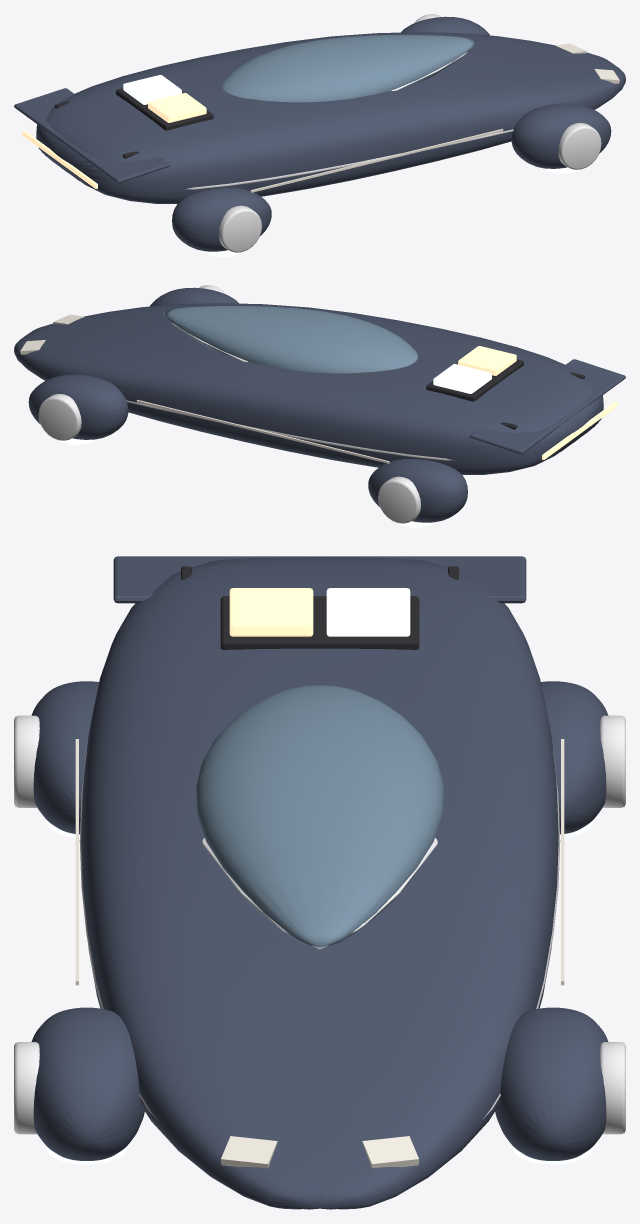
The model's file is SM_Spinner.fbx.
3 views of the same model, one above another, from view 1: azimuth 30°, elevation 25°; view 2: azimuth 150°, elevation 25°; view 3: azimuth 270°, elevation 25° (orthographic). The views are drawn at different scales.
Parts seen in each view (by area): view 1: SM_Spinner; view 2: SM_Spinner; view 3: SM_Spinner.
Boxes of the visible parts, left/top/right/bottom form: SM_Spinner: left=14, top=14, right=625, bottom=256; SM_Spinner: left=14, top=285, right=625, bottom=527; SM_Spinner: left=14, top=556, right=625, bottom=1209.
Size of the model in its own units: 2.77 by 5.79 by 1.11.
